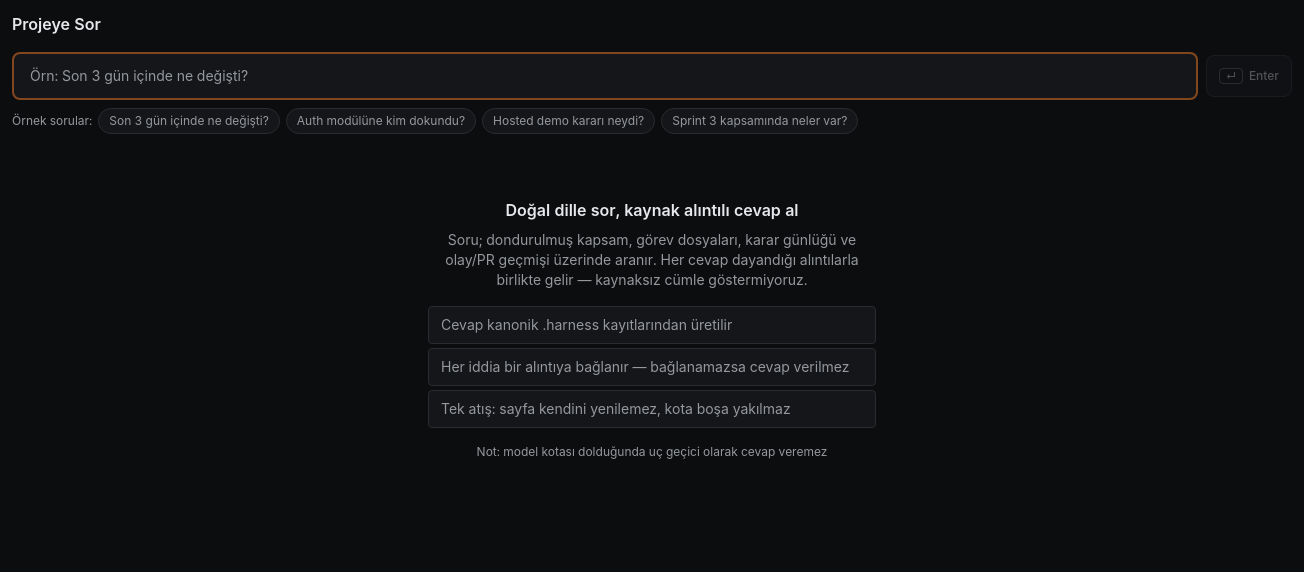
AskPage — son sorular (bu tarayıcıda, localStorage) (#319) › geçmiş şeridi MEVCUT soruyu göstermez, öncekileri gösterir
Type "Şu anki soru" into the field named "Projeye sorulacak soru" at coordinates (605, 76), box x1=12 y1=52 x2=1198 y2=100
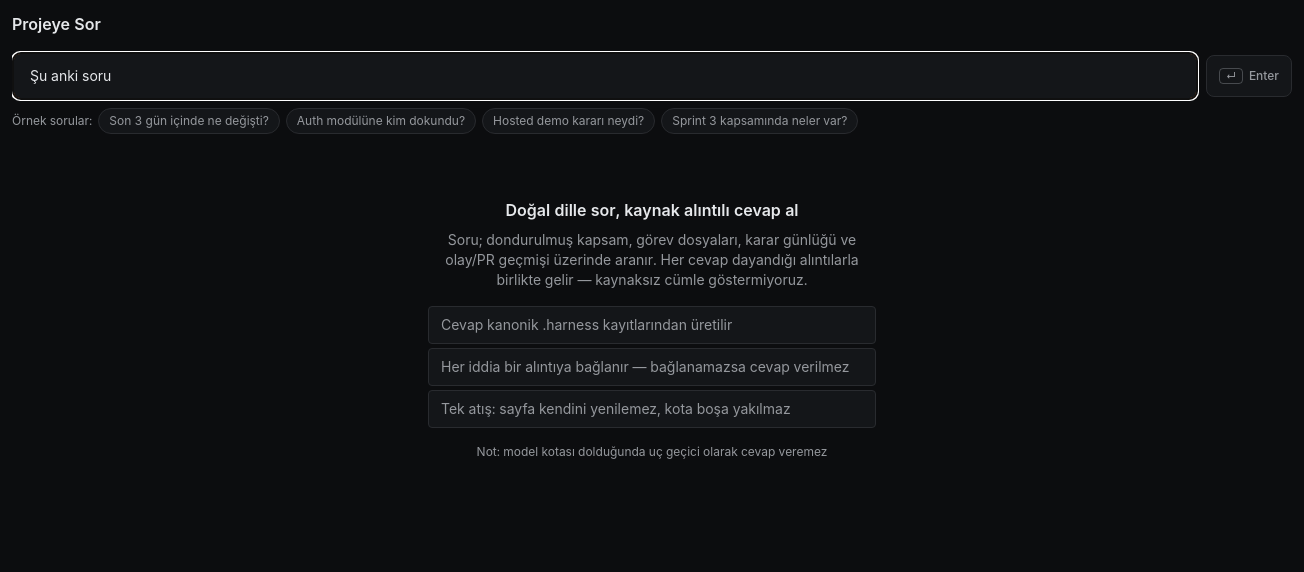
Click the button with aria-label "Soruyu gönder" at coordinates (1249, 76), box x1=1206 y1=55 x2=1292 y2=97
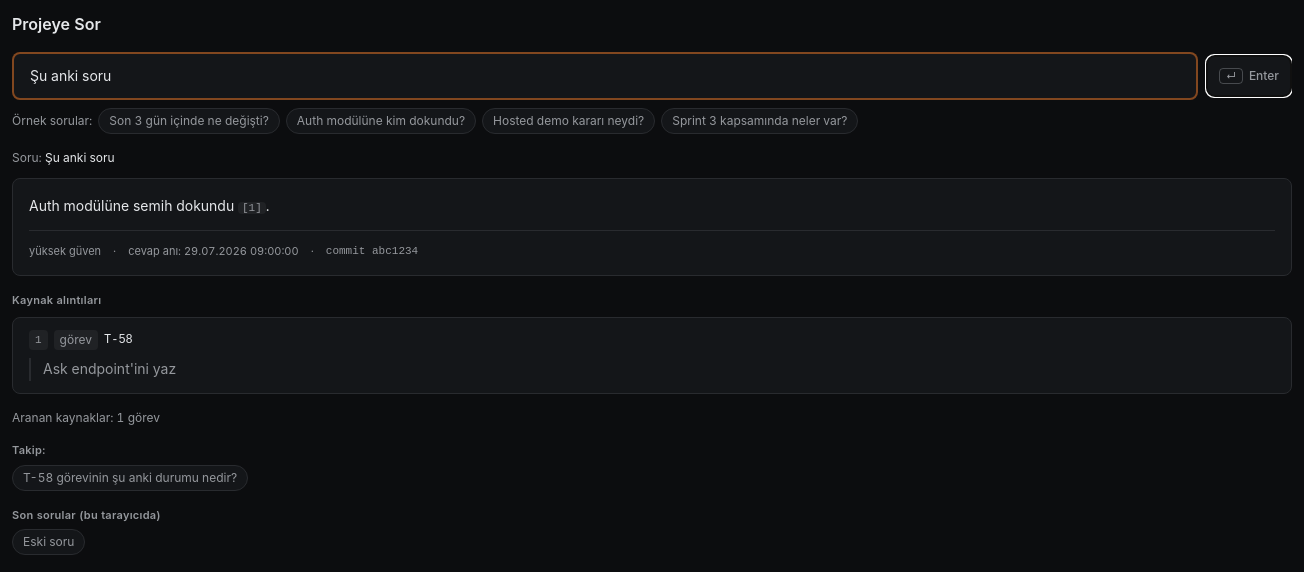
Check: the button "Eski soru" is shown, box x1=12 y1=529 x2=85 y2=555
